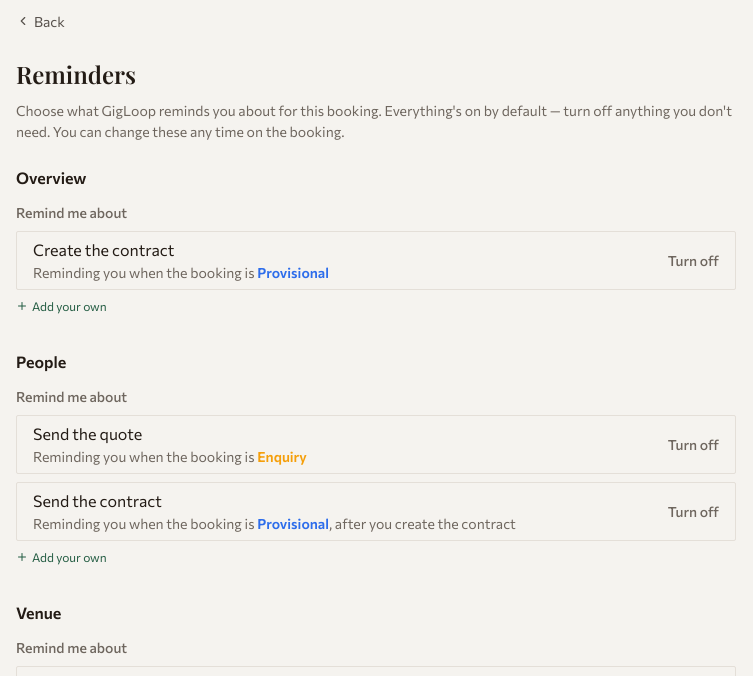
Test: ChecklistStep (New Booking reminders, #560) › "after you …" clause recomputed from the live selection › drops the clause once the prerequisite is turned off
Click the 1st button "Turn off": x=693, y=260 left=668, top=250, right=719, bottom=271
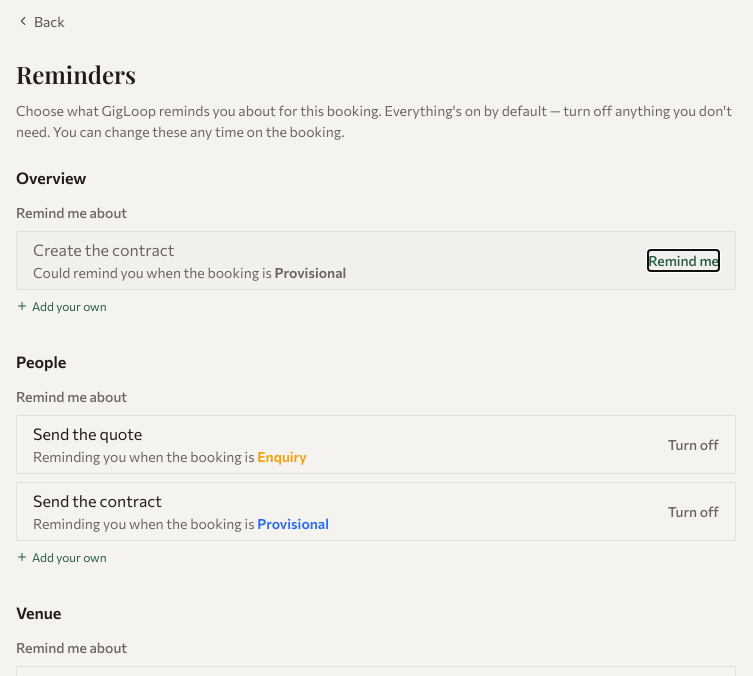
Result: the list item "Send the contract" no longer shows "after you create the contract" at left=16, top=482, right=736, bottom=541
